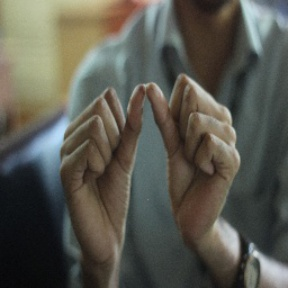A: (69, 69, 220, 206)
